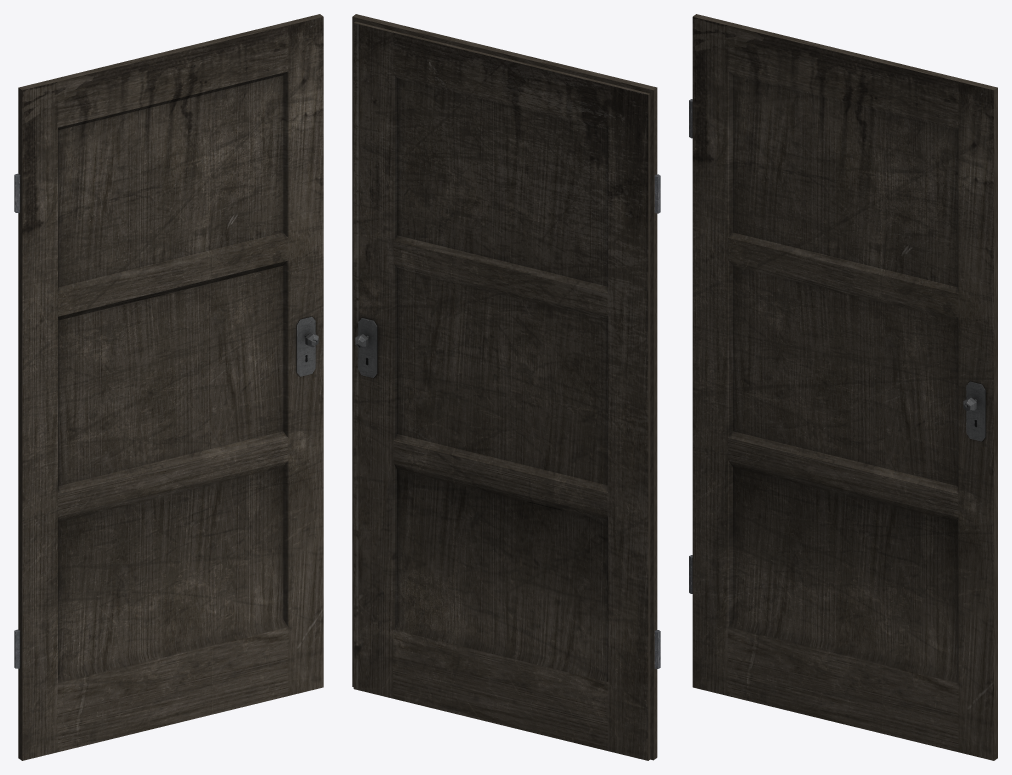
File: Prop_Door.fbx
3 views of the same model, side by side, from view 1: azimuth 30°, elevation 25°; view 2: azimuth 150°, elevation 25°; view 3: azimuth 330°, elevation 25° (orthographic).
Visible parts, largest first — view 1: Mesh; view 2: Mesh; view 3: Mesh.
Boxes of the visible parts, <box> form: Mesh: <box>14,14,323,760</box>; Mesh: <box>352,14,660,760</box>; Mesh: <box>689,14,997,760</box>.
Bounding box in the file's own units: 92.92 × 194 × 13.51.
